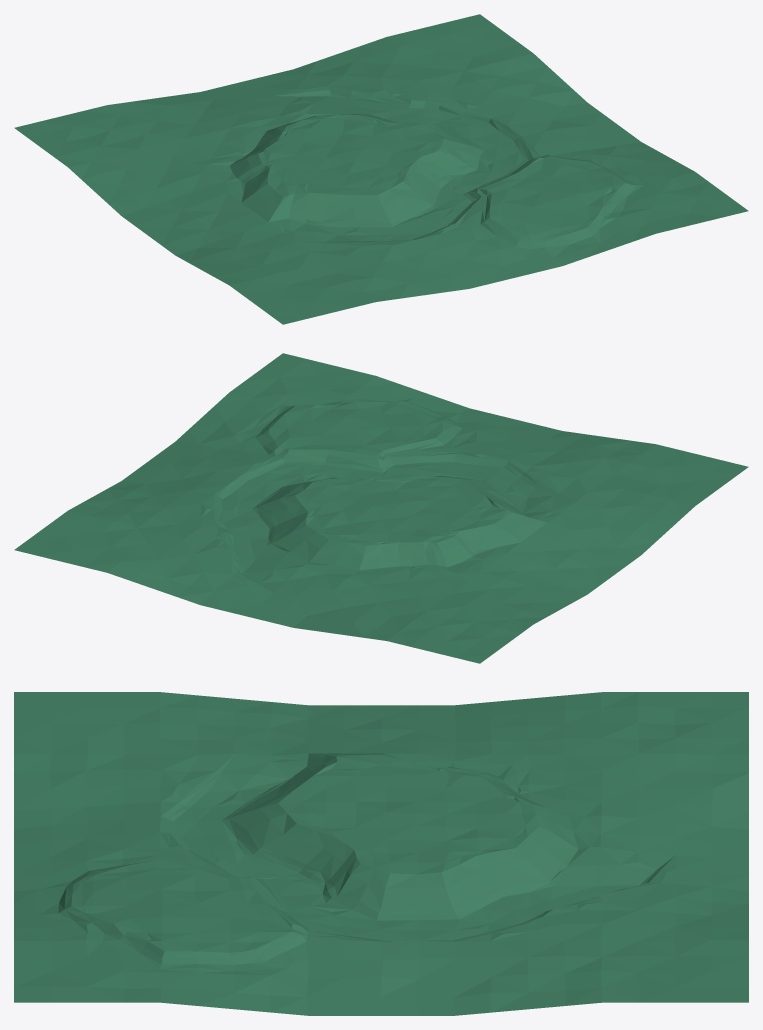
The model's file is Terrain_b_lush.FBX.
3 views of the same model, one above another, from view 1: azimuth 30°, elevation 25°; view 2: azimuth 150°, elevation 25°; view 3: azimuth 270°, elevation 25° (orthographic). The views are drawn at different scales.
Parts seen in each view (by area): view 1: Terrain_b_lush; view 2: Terrain_b_lush; view 3: Terrain_b_lush.
Boxes of the visible parts, x1=… form: Terrain_b_lush: x1=14, y1=14, x2=748, y2=324; Terrain_b_lush: x1=14, y1=353, x2=748, y2=663; Terrain_b_lush: x1=14, y1=692, x2=748, y2=1015.
Bounding box in the file's own units: 100 × 4.85 × 100.
